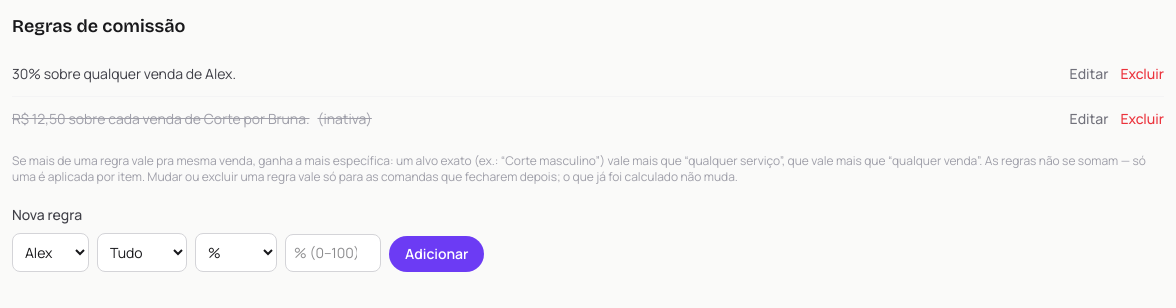
Test case: ComissoesView: editar e excluir regras › Editar abre o formulário já preenchido com os valores da regra
The image size is (1176, 308).
Click the button "Editar" in the row of "30% sobre qualquer venda de Alex." at (1089, 74), box [1070,64,1108,84]
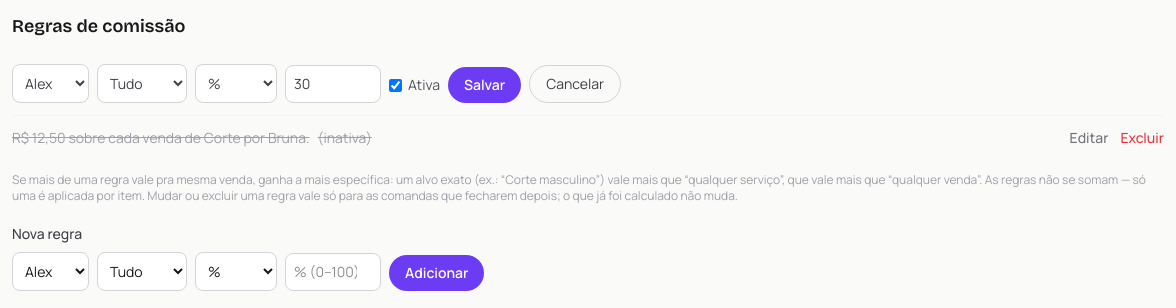
Expected: the 1st dropdown named "Profissional" shows "Alex", [12,64,89,103]
Expected: the number field named "Percentual da comissão" holds "30", [285,65,381,103]
Expected: the checkbox labelled "Ativa" is checked, [389,78,402,92]
